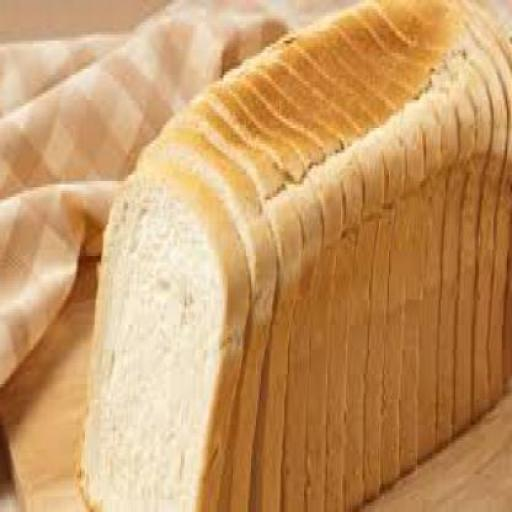biodegradable: (78, 0, 510, 511), (80, 159, 251, 509)
